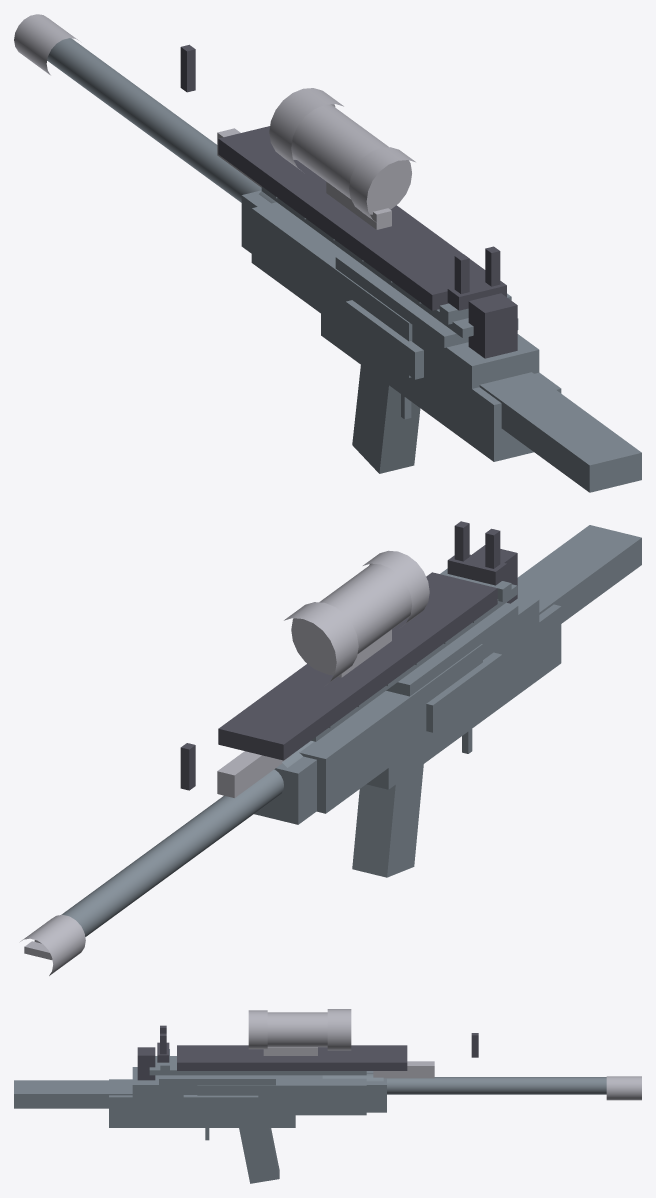
Rendered from scar.glb.
The picture shows the model from 3 angles, top to bottom: view 1: azimuth 30°, elevation 25°; view 2: azimuth 150°, elevation 25°; view 3: azimuth 270°, elevation 25°; orthographic projection. The views are drawn at different scales.
Parts seen in each view (by area): view 1: scar_body, scar_dark, scar_metal; view 2: scar_body, scar_dark, scar_metal; view 3: scar_body, scar_dark, scar_metal.
Boxes of the visible parts, x1,y1,x2,y2 form: scar_body: (47, 38, 641, 492); scar_dark: (180, 44, 517, 358); scar_metal: (14, 14, 415, 229); scar_body: (61, 525, 641, 936); scar_dark: (180, 521, 517, 790); scar_metal: (20, 550, 429, 975); scar_body: (14, 1049, 606, 1183); scar_dark: (137, 1025, 478, 1080); scar_metal: (248, 1009, 641, 1100).
Size of the model in its own units: 0.08 by 0.2741 by 0.9262.
